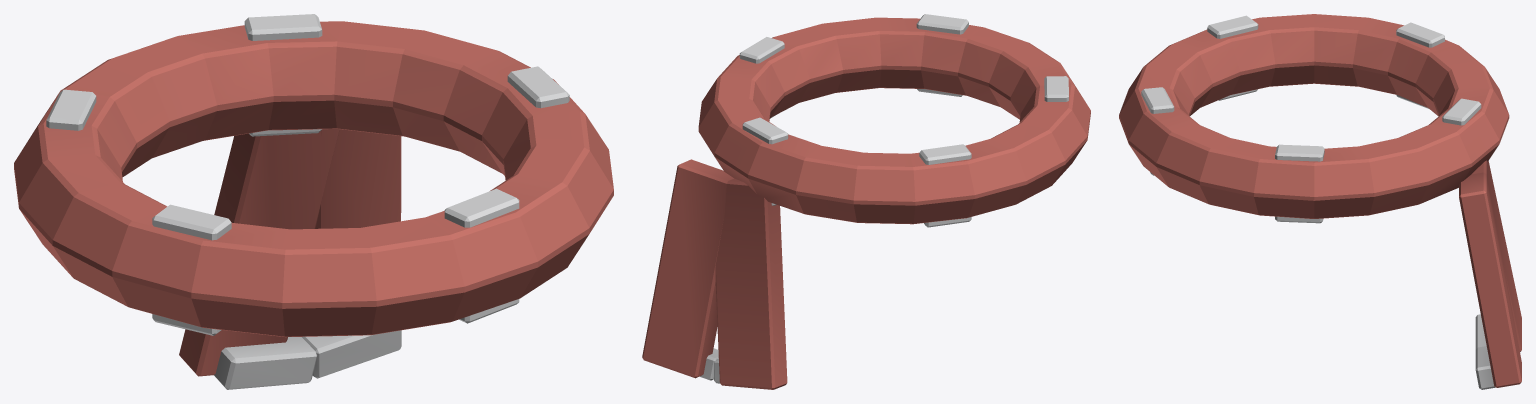
File: snowman_part_scarf.glb
3 renders of one model, left to right at view 1: azimuth 30°, elevation 25°; view 2: azimuth 150°, elevation 25°; view 3: azimuth 270°, elevation 25°, orthographic. The views are drawn at different scales.
Size of the model in its own units: 0.487 by 0.3404 by 0.5028.
